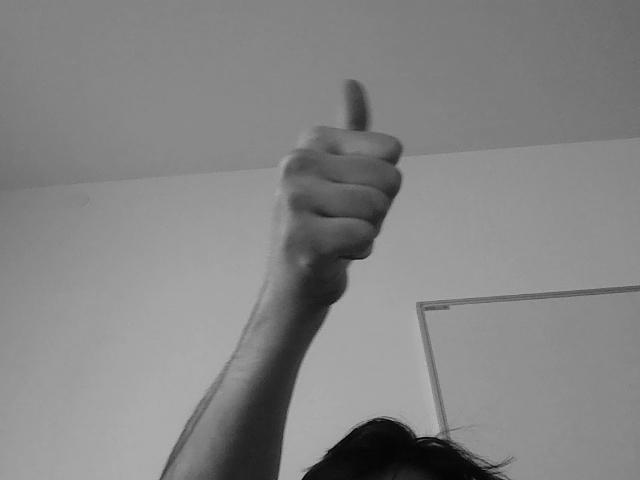friend: (261, 72, 411, 302)
